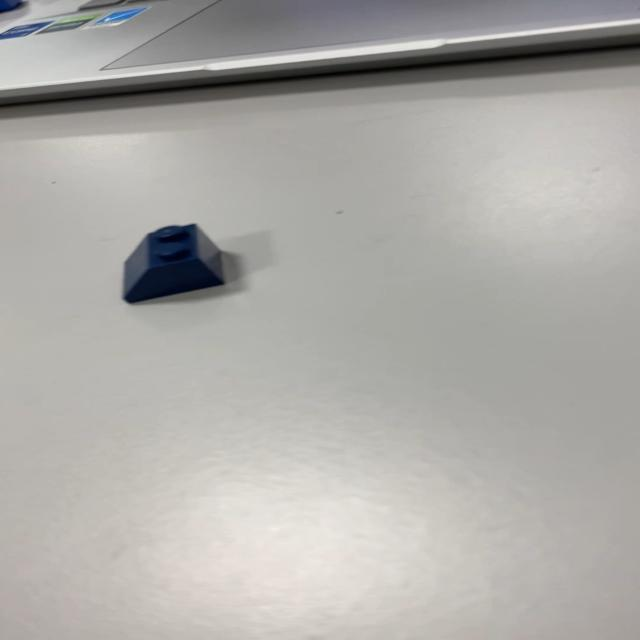P2x2x1: (122, 222, 229, 303)
